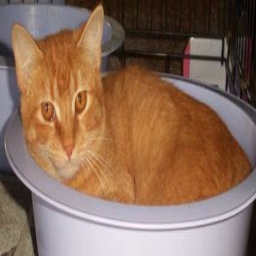cat: (10, 11, 256, 203)
